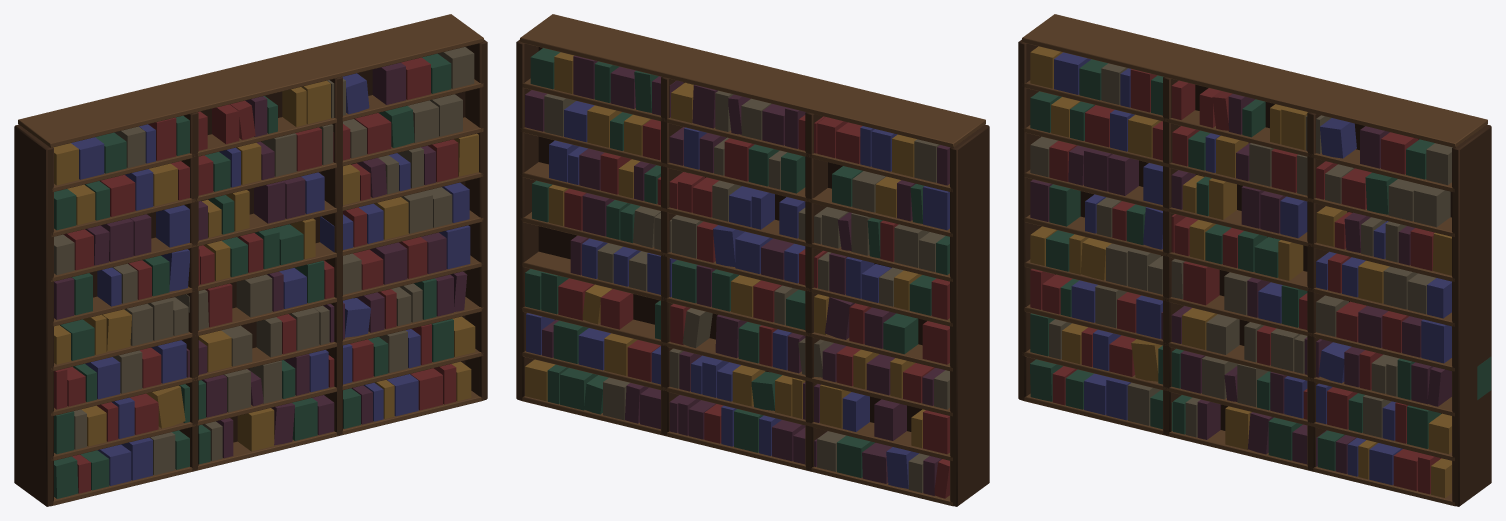
Rendered from bookshelf_tall.glb.
3 renders of one model, left to right at view 1: azimuth 30°, elevation 25°; view 2: azimuth 150°, elevation 25°; view 3: azimuth 330°, elevation 25°, orthographic.
Parts seen in each view (by area): view 1: bookshelf_tall; view 2: bookshelf_tall; view 3: bookshelf_tall.
Boxes of the visible parts, left/top/right/bottom form: bookshelf_tall: left=14, top=14, right=487, bottom=506; bookshelf_tall: left=516, top=14, right=989, bottom=506; bookshelf_tall: left=1018, top=14, right=1491, bottom=506.
Size of the model in its own units: 7.74 by 6.08 by 1.
